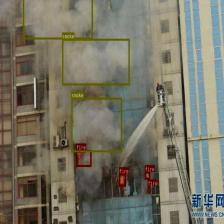fire: (76, 150, 91, 167), (119, 174, 125, 186), (145, 171, 150, 179), (148, 186, 150, 192)
smoke: (62, 39, 129, 85), (71, 97, 122, 152), (22, 0, 92, 39)
